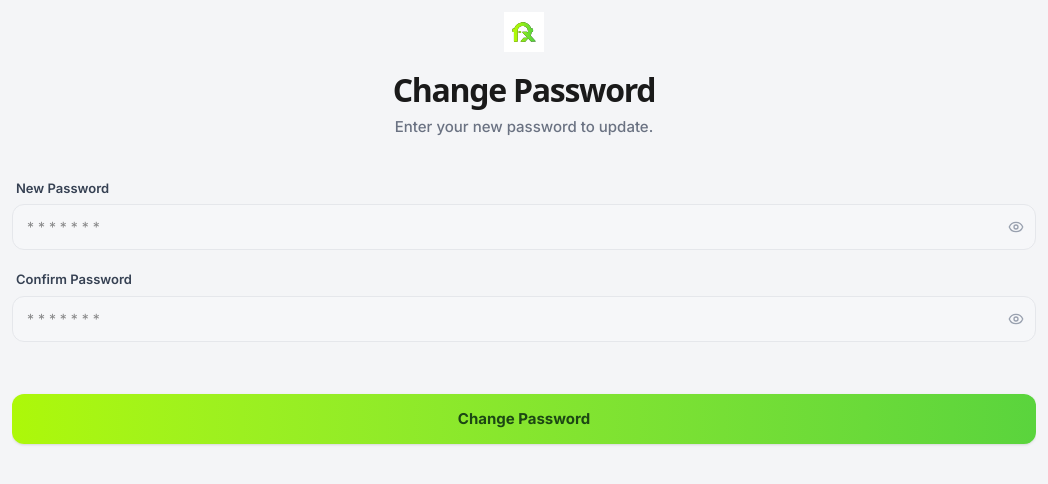
ChangePassword Component › shows error when passwords do not match
In the 1st password field with placeholder "* * * * * * *": x=524, y=227 [12, 204, 1036, 250], type "Password123!"
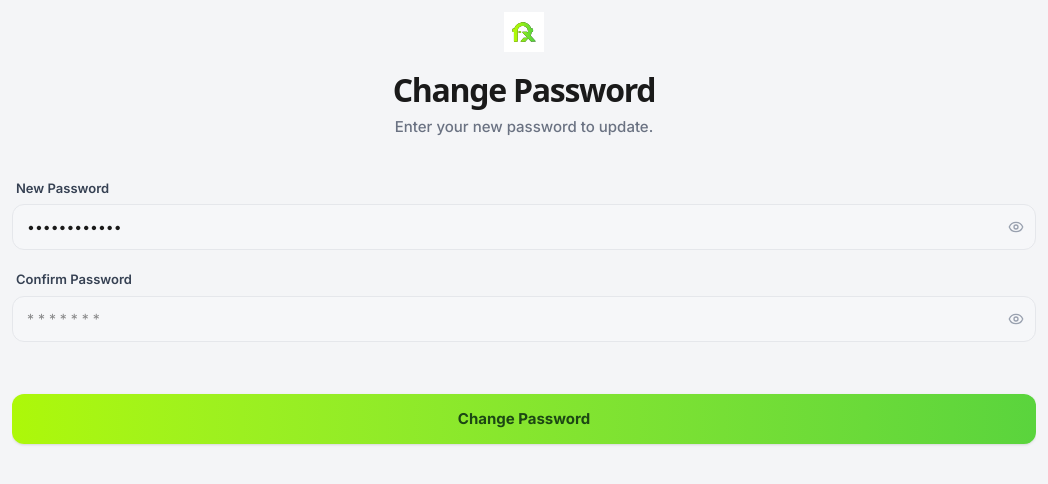
In the password field with placeholder "* * * * * * *": x=524, y=318 [12, 296, 1036, 342], type "Different!"
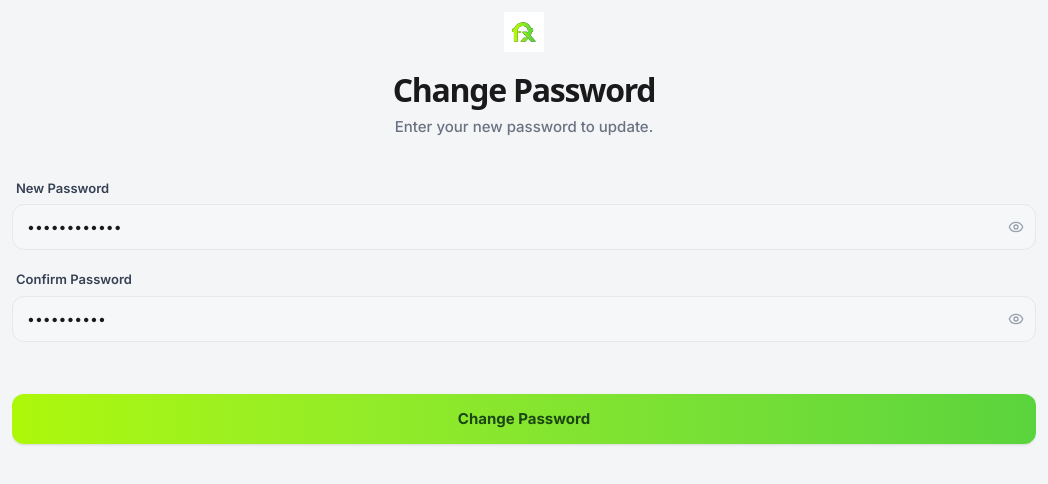
Click the button "Change Password": x=524, y=419 [12, 394, 1036, 444]
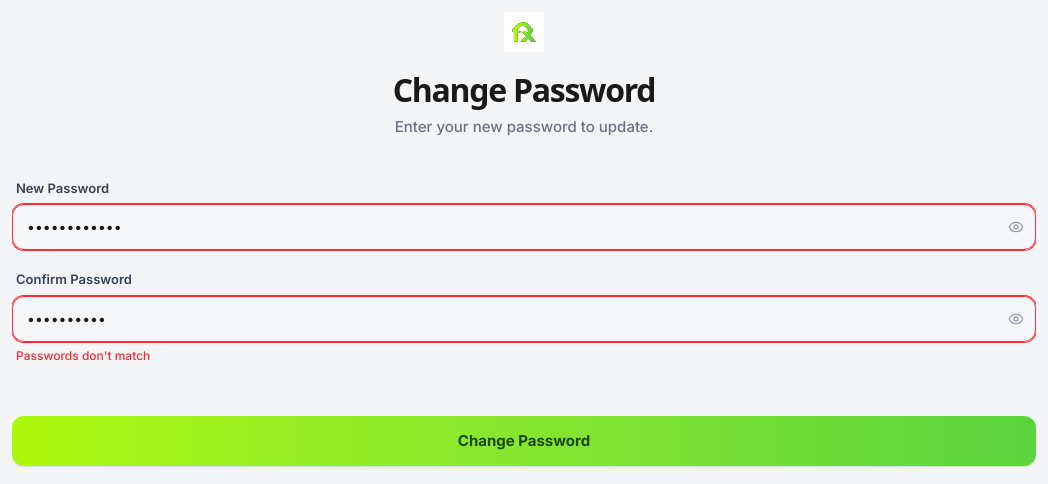
Check: the text "Passwords don't match" is shown, box [16, 348, 150, 362]
